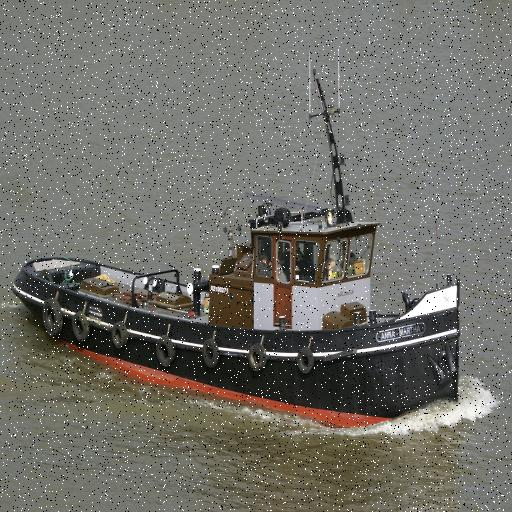tugboat: (10, 48, 466, 452)
